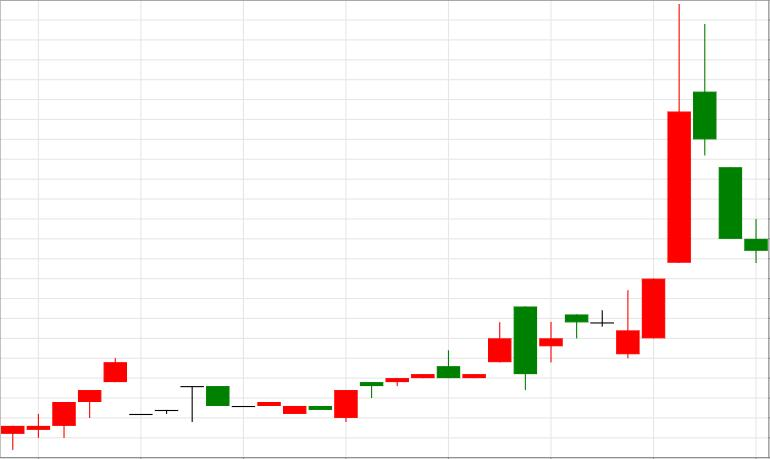bearish_engulfing_fall: (334, 306, 538, 422)
shooting_star_fall: (617, 4, 717, 358)
three_black_crows_fall: (616, 4, 770, 358)
